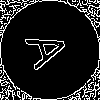A: (25, 25, 79, 72)
